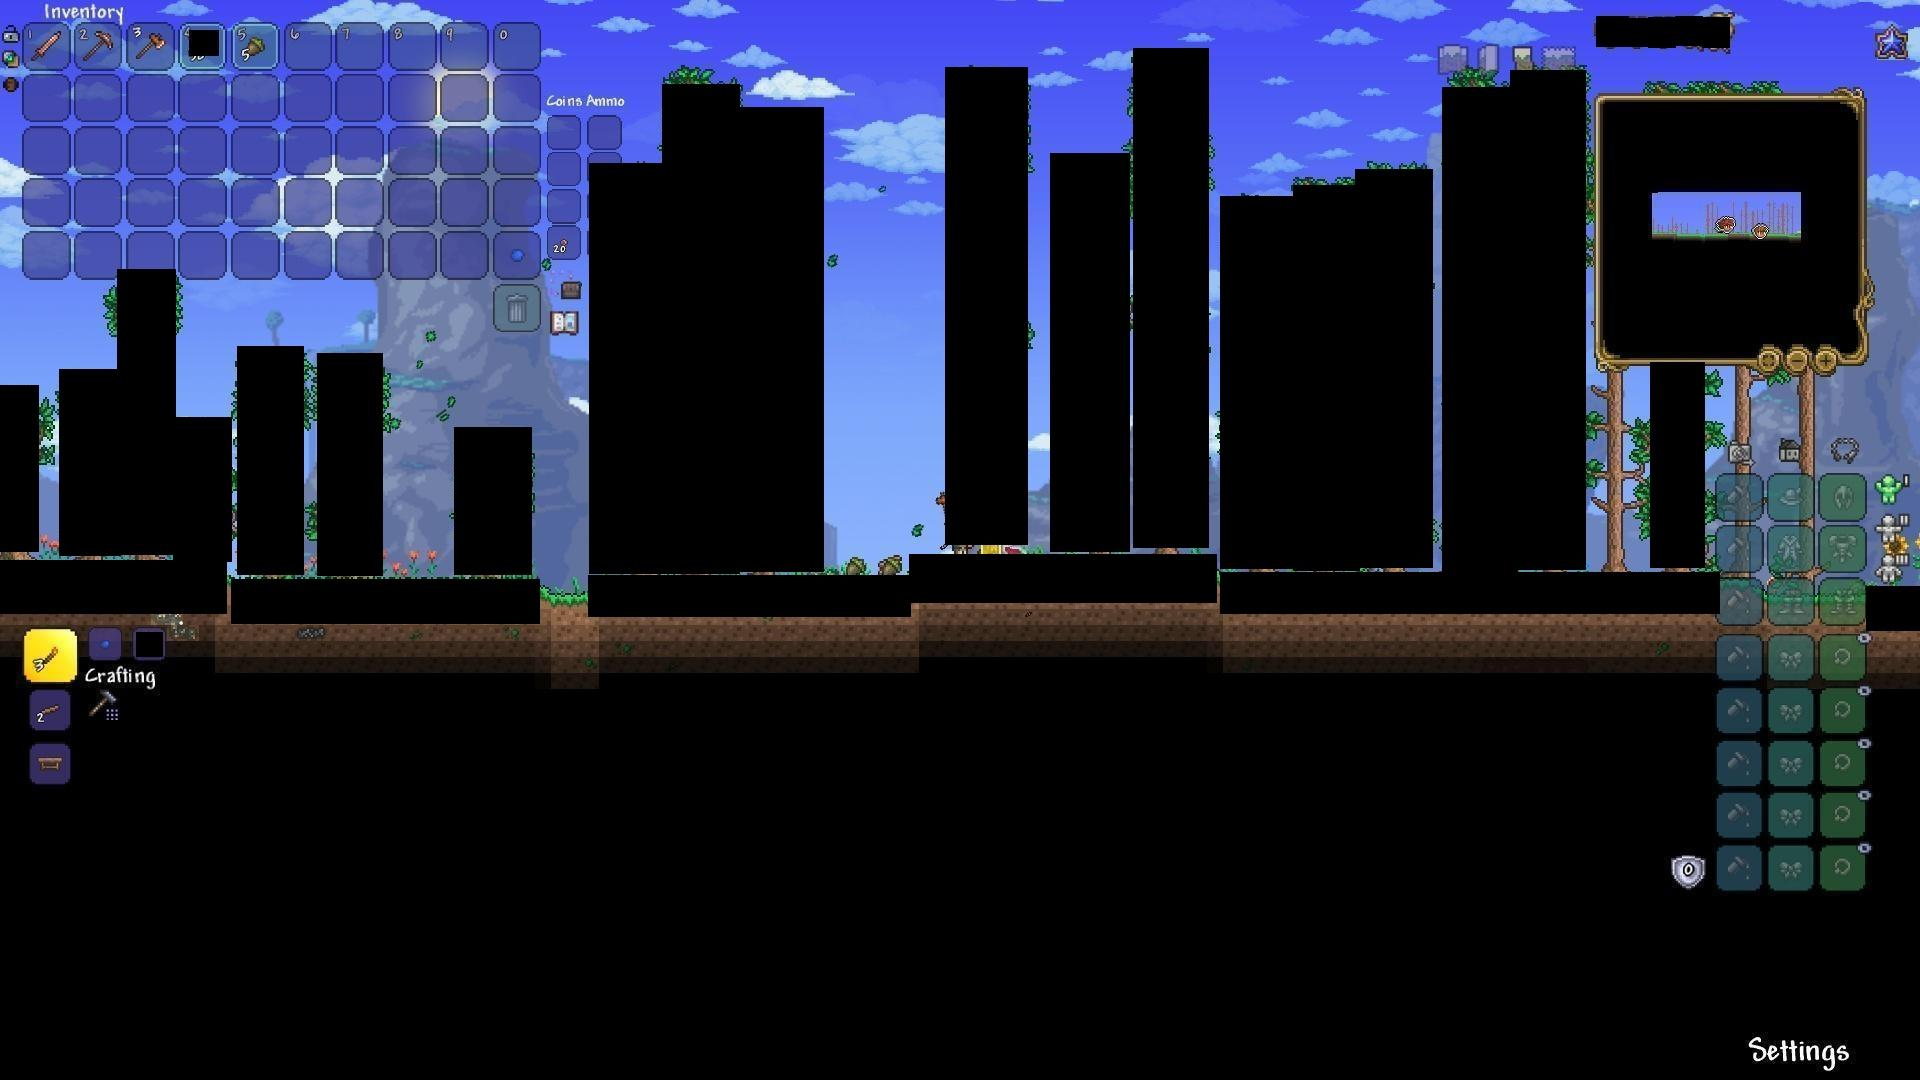dirt: (541, 584, 591, 613)
tree: (1586, 377, 1642, 568)
workbench: (36, 752, 67, 775)
